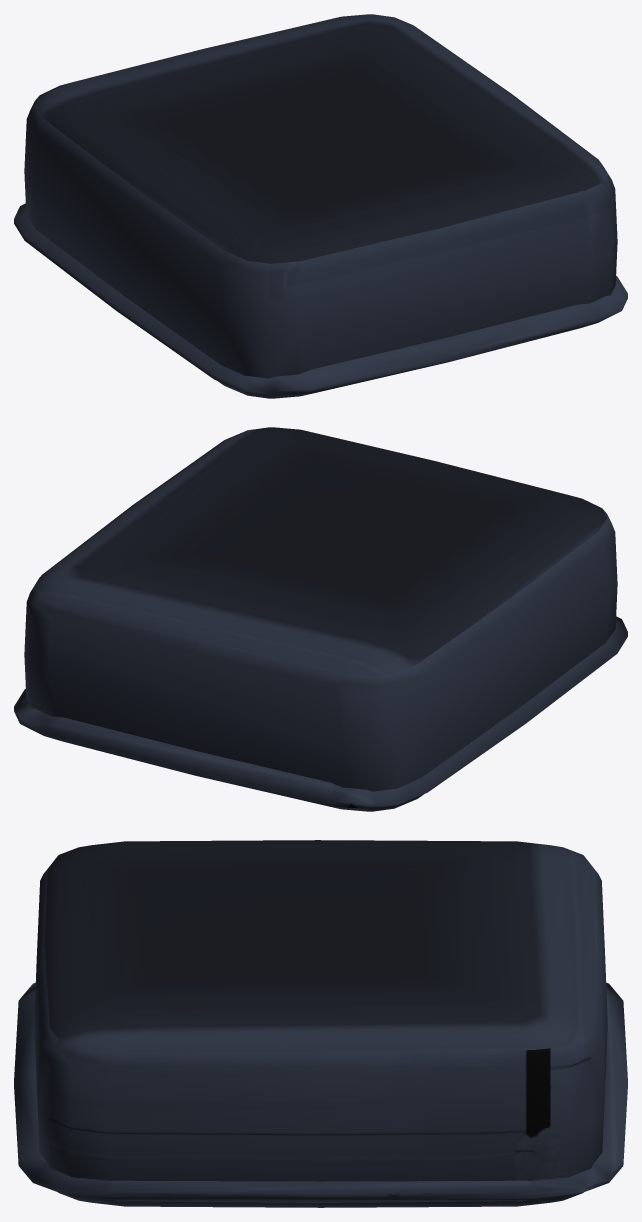
File: Remache_BotaIzq.fbx
3 renders of one model, top to bottom at view 1: azimuth 30°, elevation 25°; view 2: azimuth 150°, elevation 25°; view 3: azimuth 270°, elevation 25°, orthographic. The views are drawn at different scales.
Visible parts, largest first — view 1: Remache_BotaIzq; view 2: Remache_BotaIzq; view 3: Remache_BotaIzq.
Boxes of the visible parts, x1,y1,x2,y2 form: Remache_BotaIzq: [14, 14, 627, 398]; Remache_BotaIzq: [14, 427, 627, 811]; Remache_BotaIzq: [14, 840, 627, 1207].
Bounding box in the file's own units: 1.9 × 0.7135 × 2.17.
